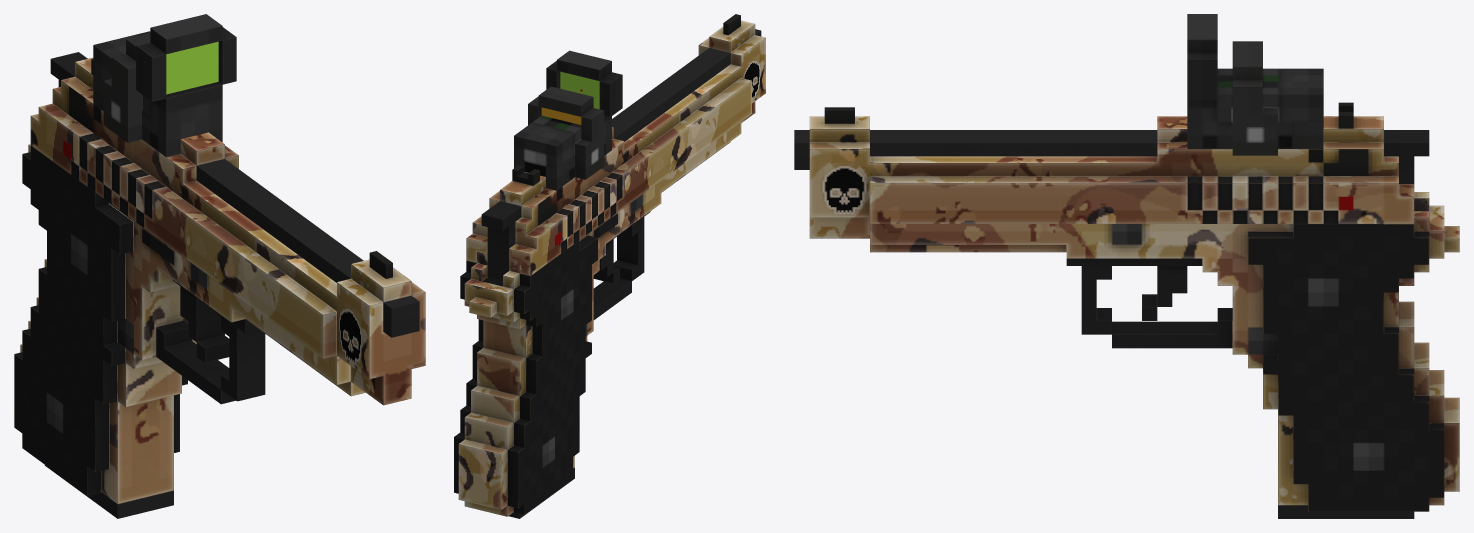
File: RD_BERETTA_DESERT_STORM.glb
3 renders of one model, left to right at view 1: azimuth 30°, elevation 25°; view 2: azimuth 150°, elevation 25°; view 3: azimuth 270°, elevation 25°, orthographic. The views are drawn at different scales.
Parts seen in each view (by area): view 1: BERETTA92, BERETTA92_FRAME, SCOPE_AIMPOINT, SCOPE_TRIJICON, BERETTA92_CLIP, BERETTA92_TRIGGER; view 2: BERETTA92, BERETTA92_FRAME, SCOPE_AIMPOINT, SCOPE_TRIJICON, BERETTA92_TRIGGER; view 3: BERETTA92, BERETTA92_FRAME, SCOPE_AIMPOINT, SCOPE_TRIJICON, BERETTA92_TRIGGER, BERETTA92_CLIP.
Boxes of the visible parts, box(x1,y1,x2,y2) form: BERETTA92: box(14, 144, 419, 503); BERETTA92_FRAME: box(30, 57, 425, 405); SCOPE_AIMPOINT: box(93, 14, 236, 157); SCOPE_TRIJICON: box(93, 33, 150, 142); BERETTA92_CLIP: box(44, 465, 173, 518); BERETTA92_TRIGGER: box(50, 52, 87, 87); BERETTA92: box(454, 29, 761, 516); BERETTA92_FRAME: box(466, 14, 765, 275); SCOPE_AIMPOINT: box(514, 50, 622, 180); SCOPE_TRIJICON: box(514, 86, 604, 190); BERETTA92_TRIGGER: box(481, 201, 521, 280); BERETTA92: box(794, 130, 1459, 511); BERETTA92_FRAME: box(809, 102, 1414, 238); SCOPE_AIMPOINT: box(1187, 14, 1323, 148); SCOPE_TRIJICON: box(1232, 41, 1323, 155); BERETTA92_TRIGGER: box(1384, 130, 1429, 183); BERETTA92_CLIP: box(1278, 505, 1414, 518).
Bounding box in the file's own units: 0.0591 × 0.3445 × 0.4331.
5 materials, 5 textured.
